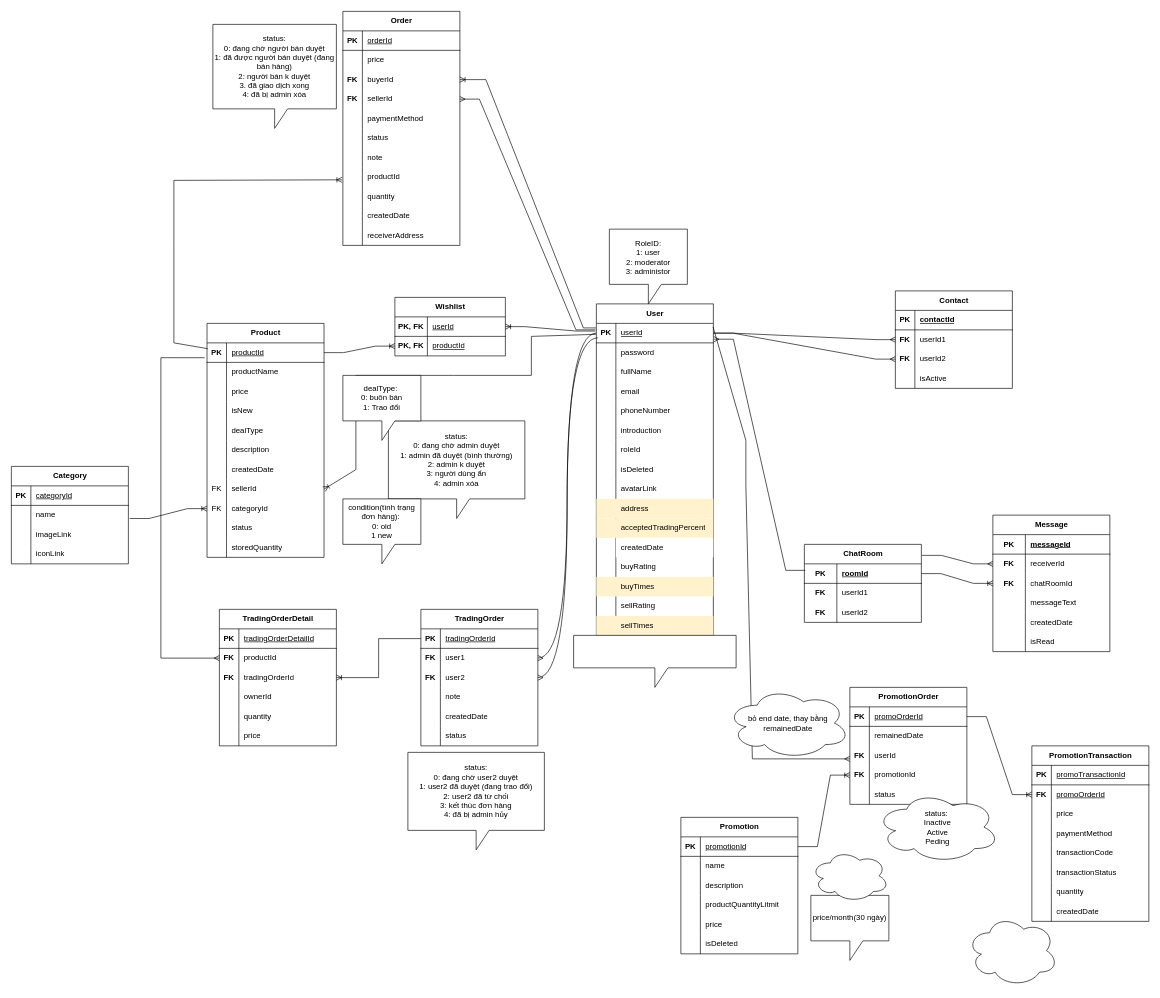
Some shapes in this 1160 by 998 pixel diagram are drawn without their labels. Here are the shapes that lost their labels. From the top down, the centre of each, then its label:
At (x=654, y=661): "buyRating: rating tổng thể khi mua hàng sellRating: rating tổng thể khi bán hàng".
At (x=849, y=875): "bỏ period".
At (x=1012, y=950): "quantity: số lượng gói mua / tháng".
